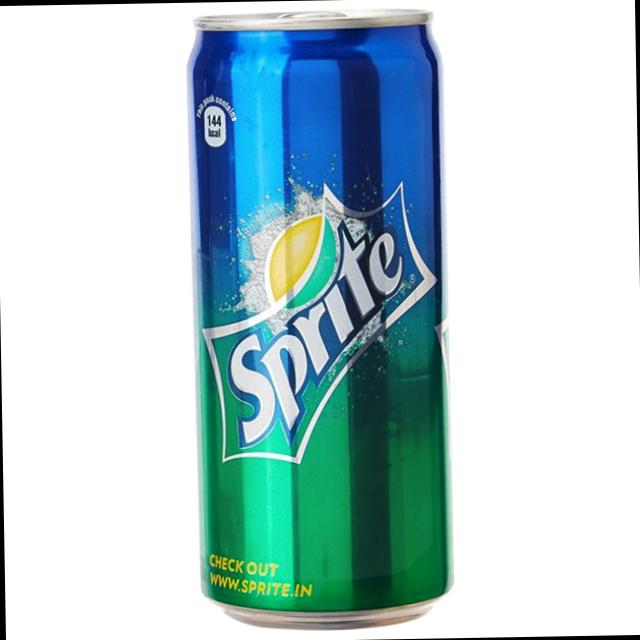sprite: (162, 14, 472, 631)
